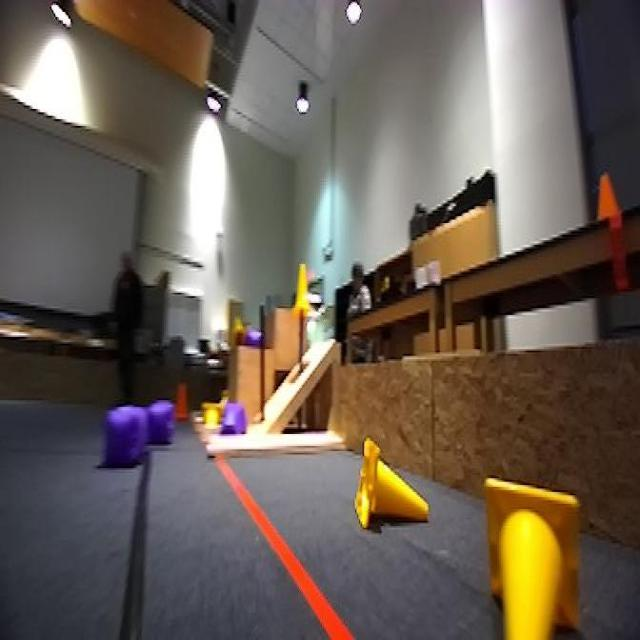frc_cone: (477, 475, 586, 633), (347, 434, 418, 540), (295, 259, 321, 330), (200, 403, 226, 432)
frc_cube: (101, 407, 147, 466), (146, 398, 175, 449), (220, 402, 244, 434), (242, 327, 264, 345)
